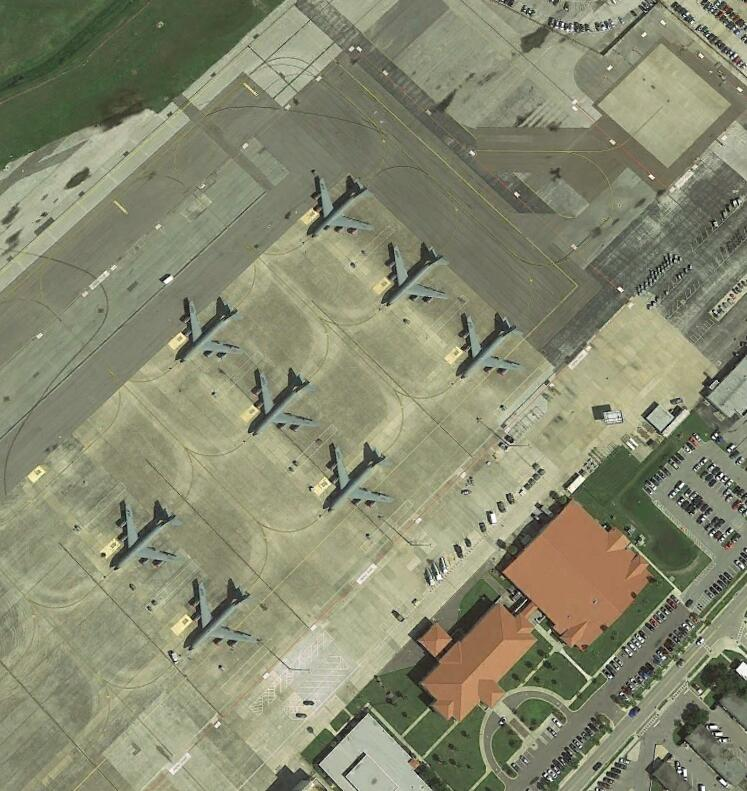A14: (110, 501, 190, 574), (185, 579, 260, 652), (322, 445, 399, 516), (247, 367, 322, 437), (304, 175, 381, 242), (384, 241, 456, 311), (177, 295, 249, 365), (456, 312, 526, 382)
